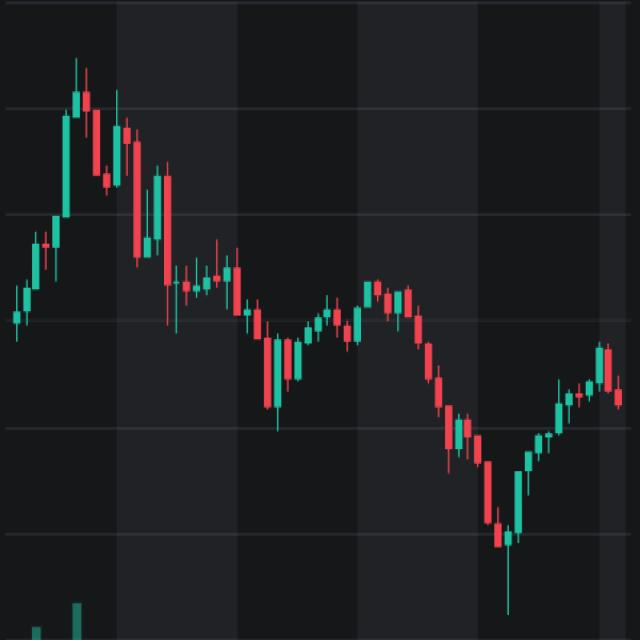Resistance-Emerging: (298, 282, 636, 550)
Support-breakout: (13, 60, 498, 538)
